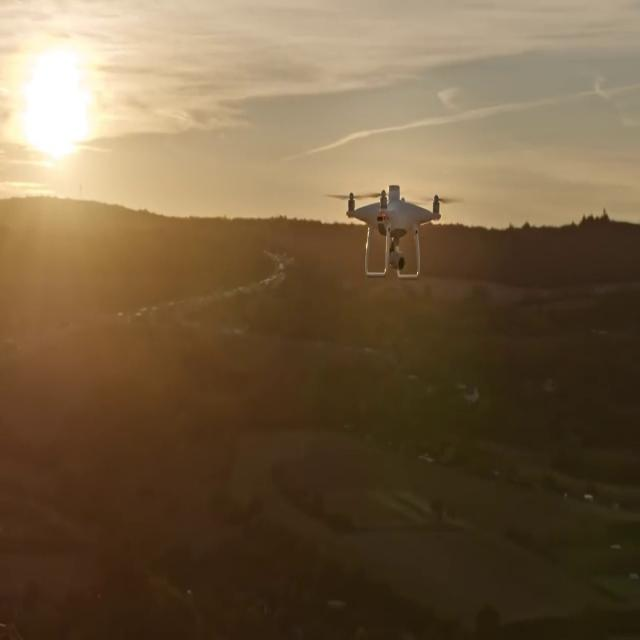drone: (321, 182, 468, 286)
